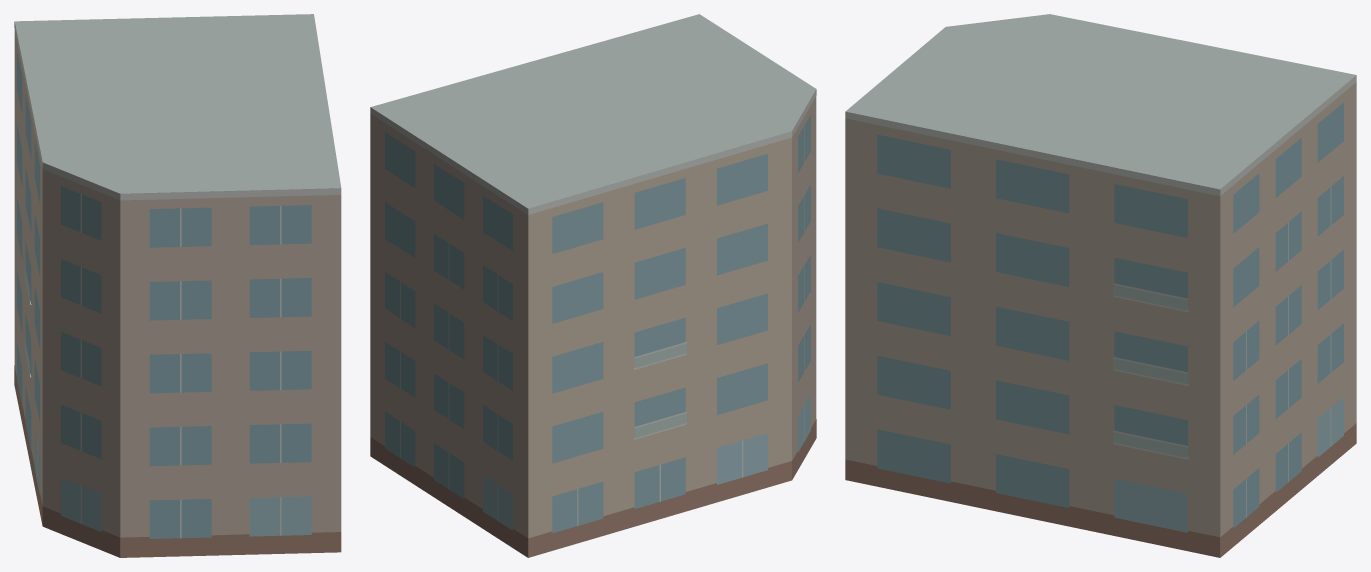
The model's file is survey-upis-32886223.glb.
3 renders of one model, left to right at view 1: azimuth 30°, elevation 25°; view 2: azimuth 150°, elevation 25°; view 3: azimuth 270°, elevation 25°, orthographic. The views are drawn at different scales.
Visible parts, largest first — view 1: survey-upis-32886223.tmp; view 2: survey-upis-32886223.tmp; view 3: survey-upis-32886223.tmp.
Boxes of the visible parts, bbox=[...] form: survey-upis-32886223.tmp: bbox=[14, 14, 341, 557]; survey-upis-32886223.tmp: bbox=[370, 14, 816, 557]; survey-upis-32886223.tmp: bbox=[845, 14, 1356, 557].
Bounding box in the file's own units: 13.59 × 13.3 × 16.74.
